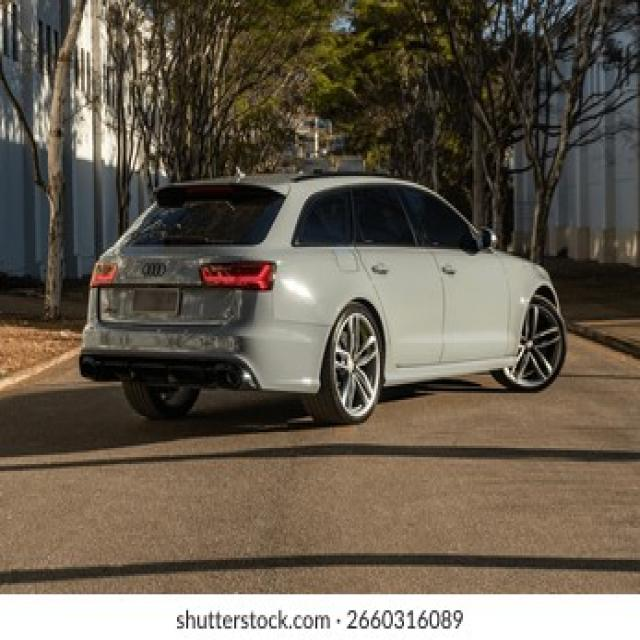audi: (140, 259, 172, 280)
